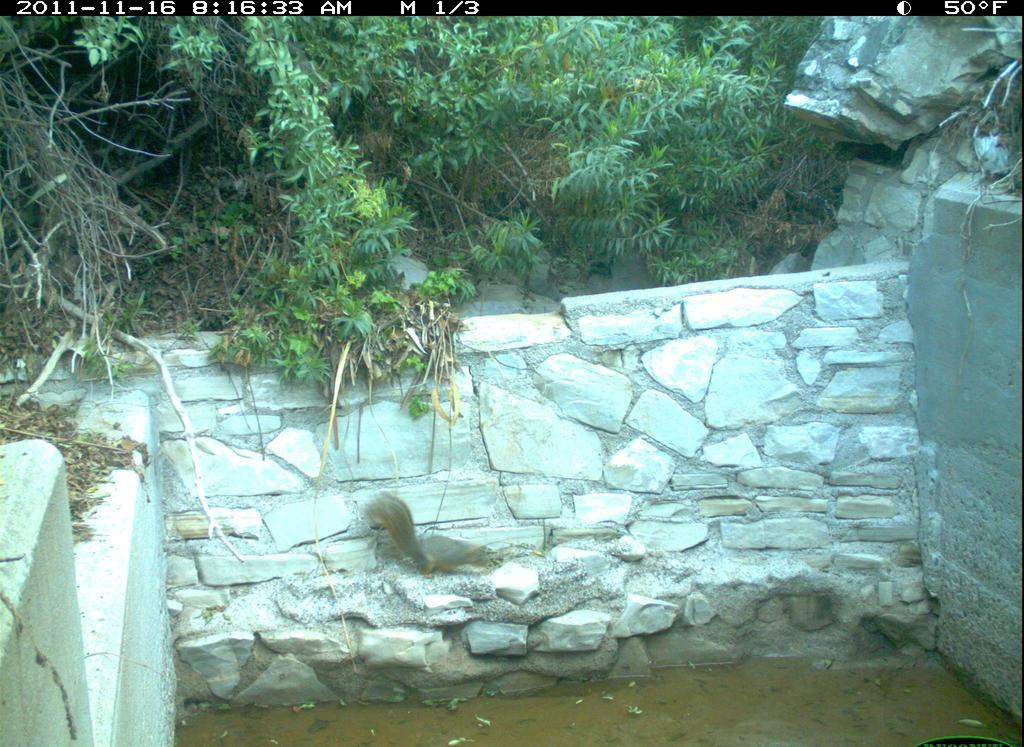squirrel: (363, 474, 510, 593)
